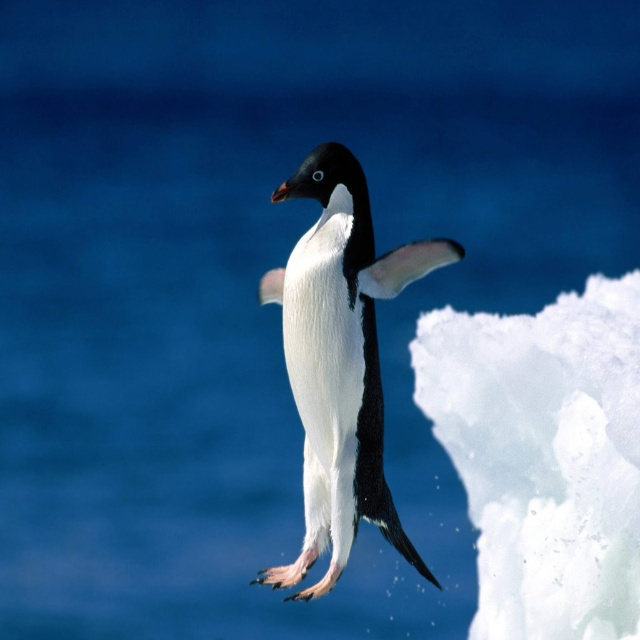Penguin: (249, 141, 466, 602)
